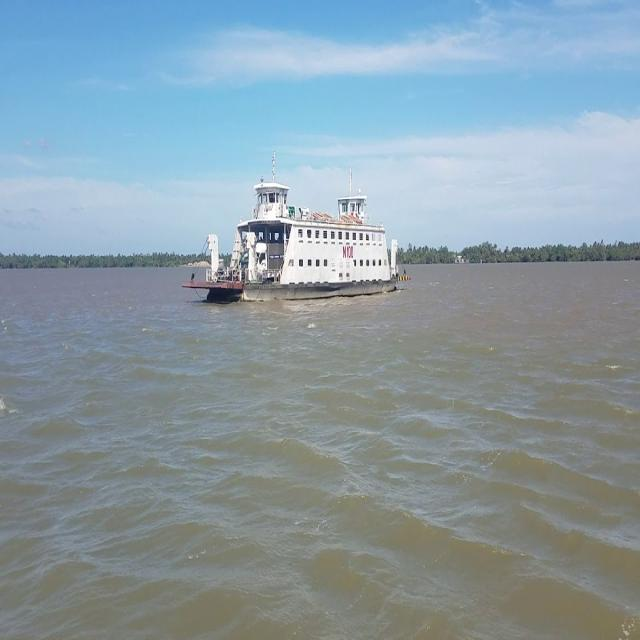passenger ship: (183, 179, 413, 302)
